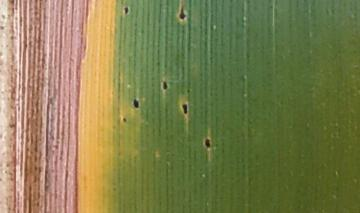tarspot: (177, 100, 191, 117), (176, 6, 190, 22), (131, 97, 144, 110), (202, 138, 214, 152), (160, 77, 170, 92), (121, 6, 131, 16), (121, 117, 129, 125)
